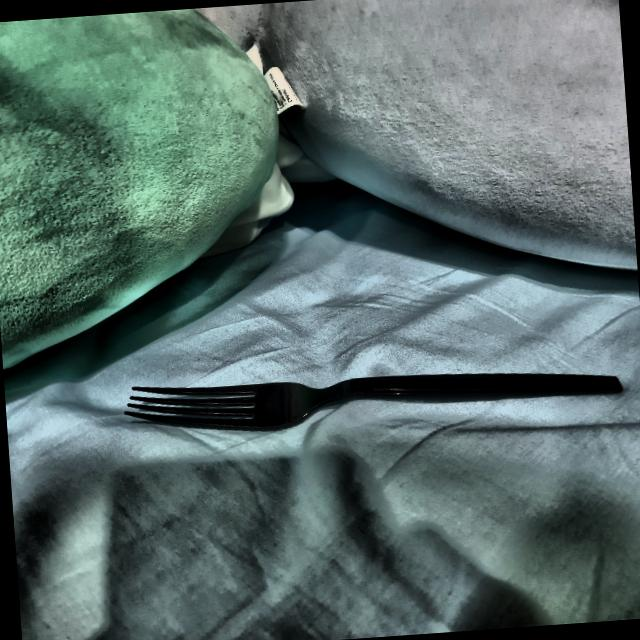plastic utensil: (116, 348, 623, 447)
